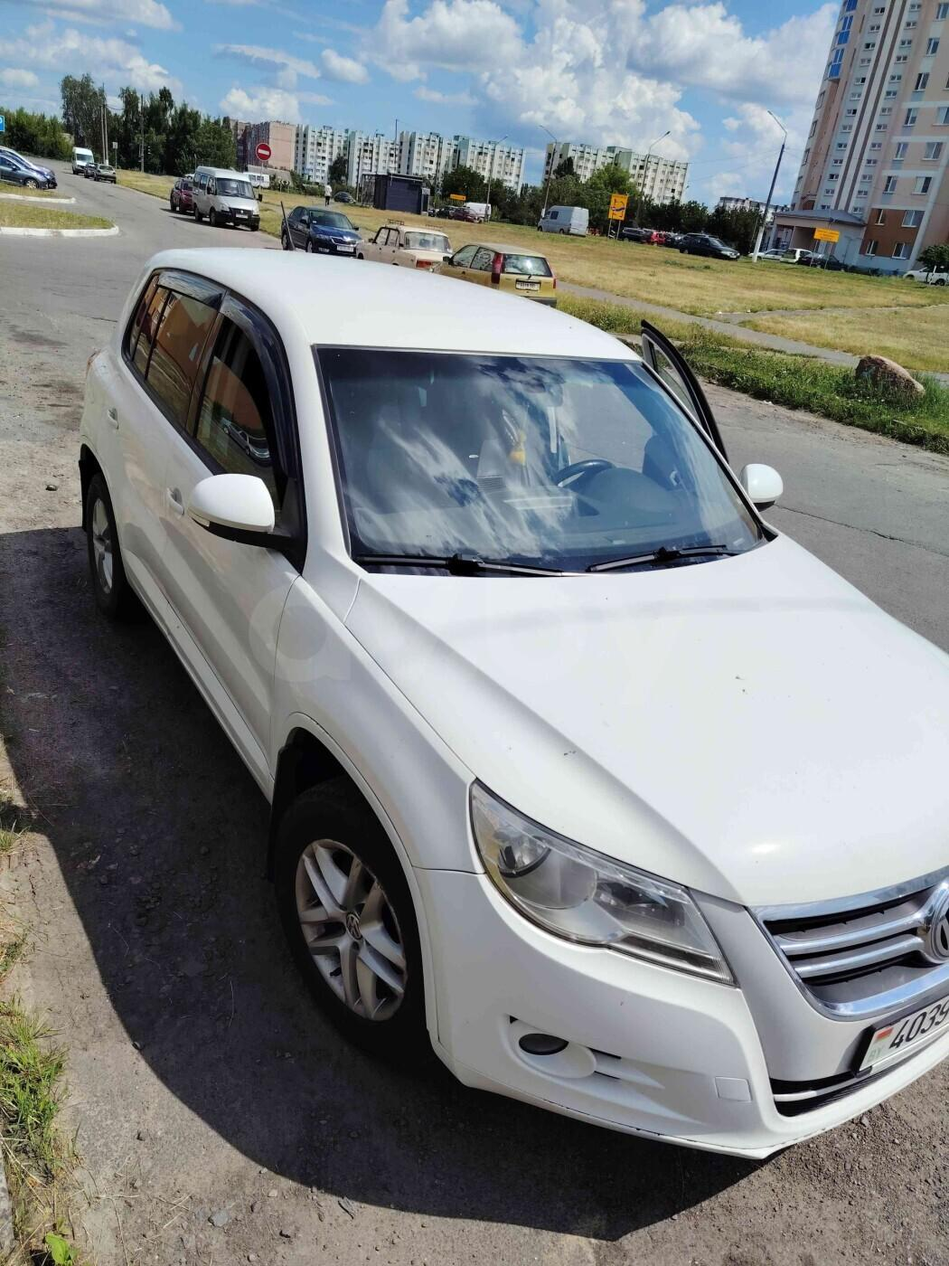Tiguan_2007-2011: (69, 239, 949, 1172)
